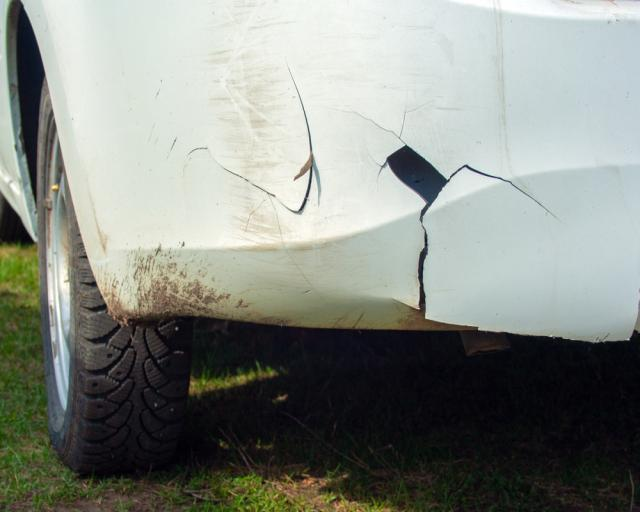crack: (324, 99, 564, 318), (183, 57, 323, 301)
